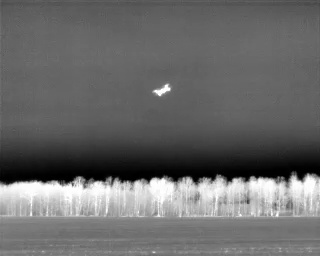DRONE: (149, 79, 175, 101)
